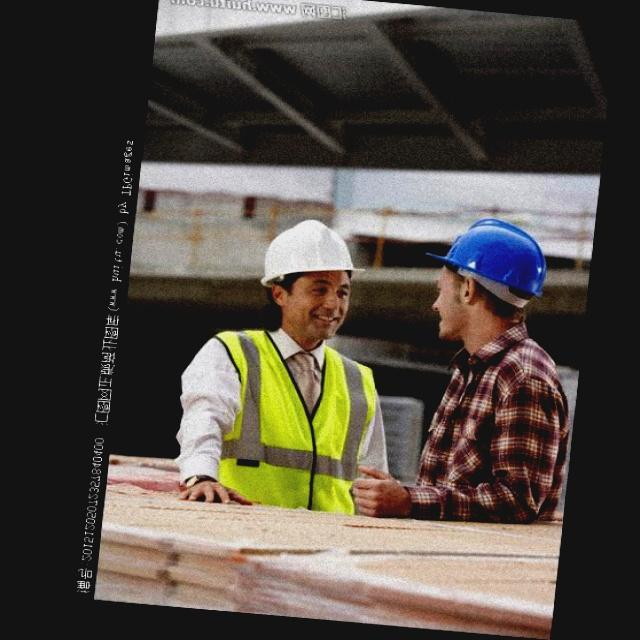helmet: (430, 214, 552, 306), (252, 209, 362, 282)
safety_vest: (198, 329, 372, 502)
